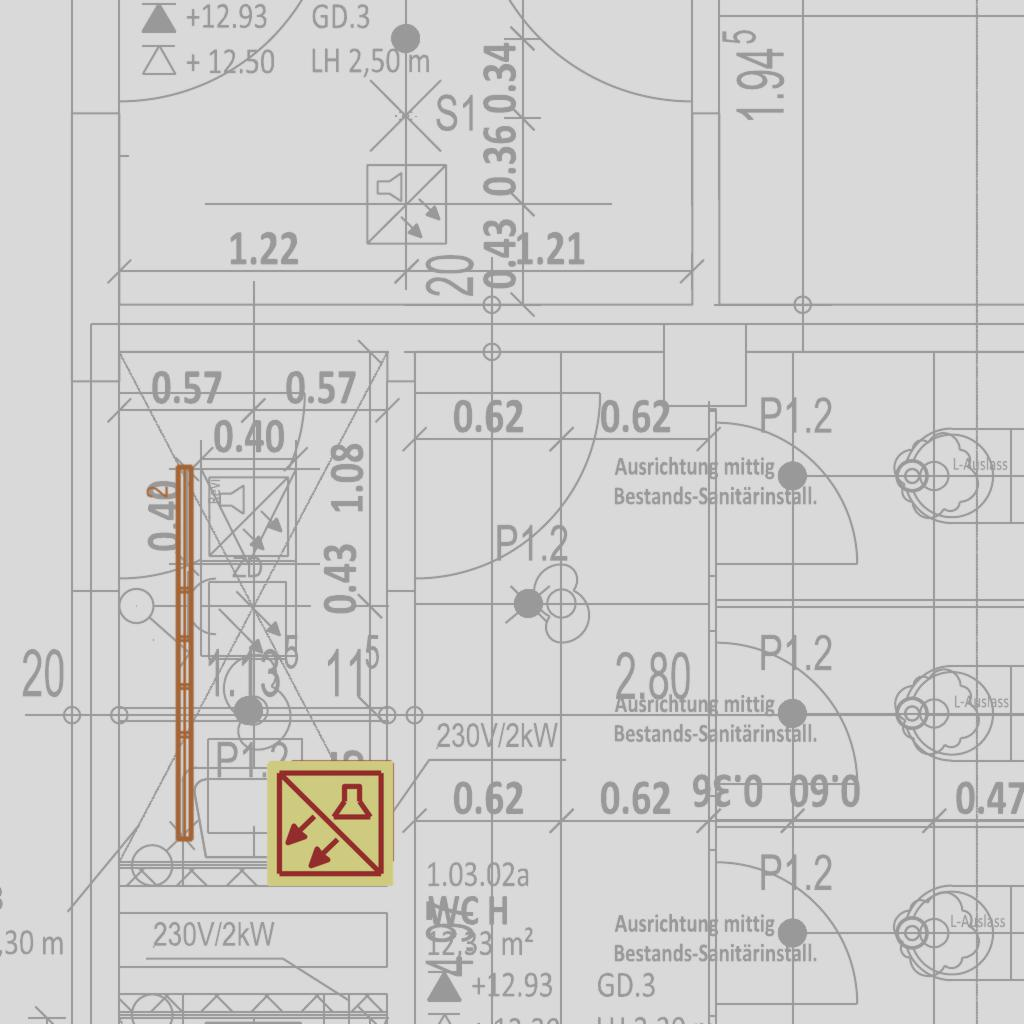Ambulanz_Pendelleuchte_LED: (144, 460, 200, 847)
OKW_Multisensormelder_(Kombination_optischer_Rauch-Kahlenmonoxid_Waerme-Melder): (264, 757, 396, 889)
